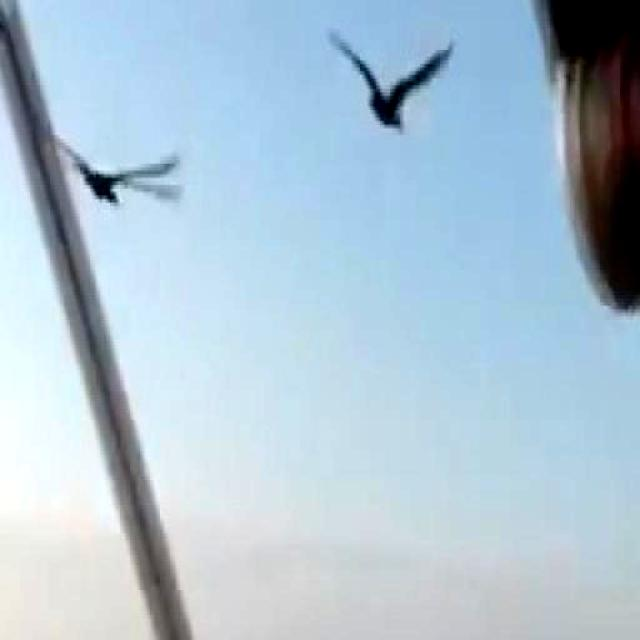airplane: (325, 25, 462, 145), (72, 122, 196, 226)
